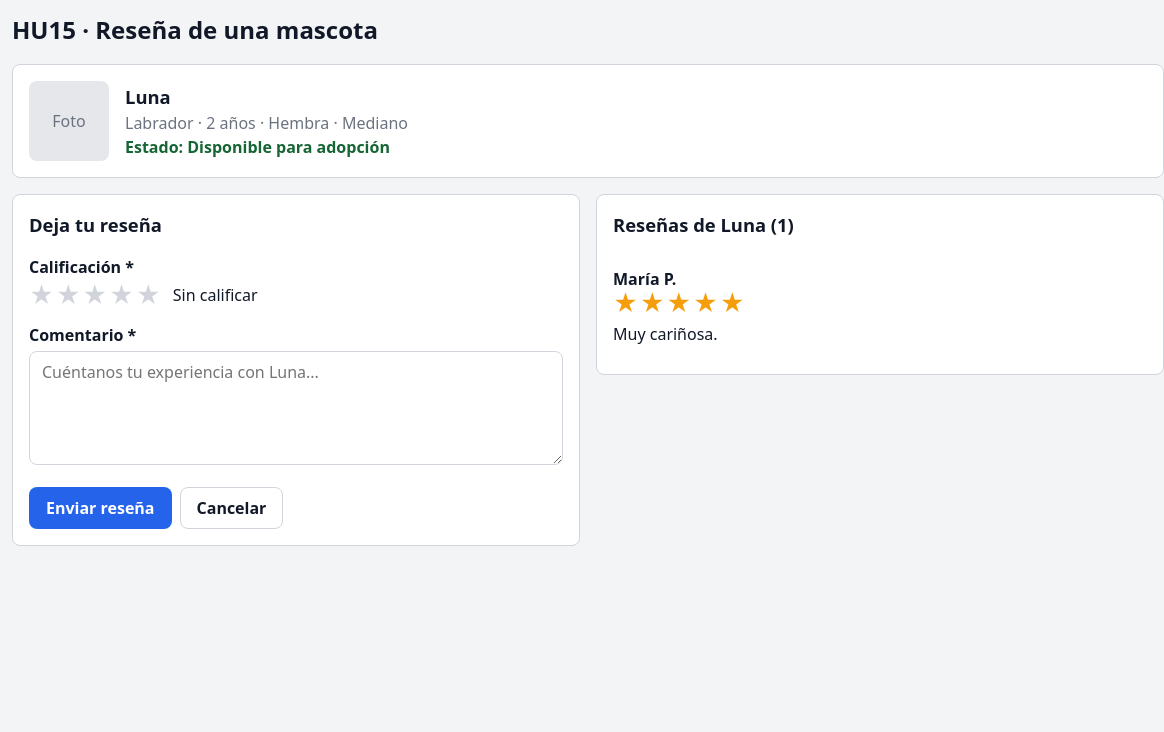
PetReviewsPage › adds the new review to the list after sending it
Expected: the heading "Reseñas de Luna (1)" is shown, [613,212,794,237]
Click the button named "4 de 5".
click(122, 295)  # box [109,283,134,307]
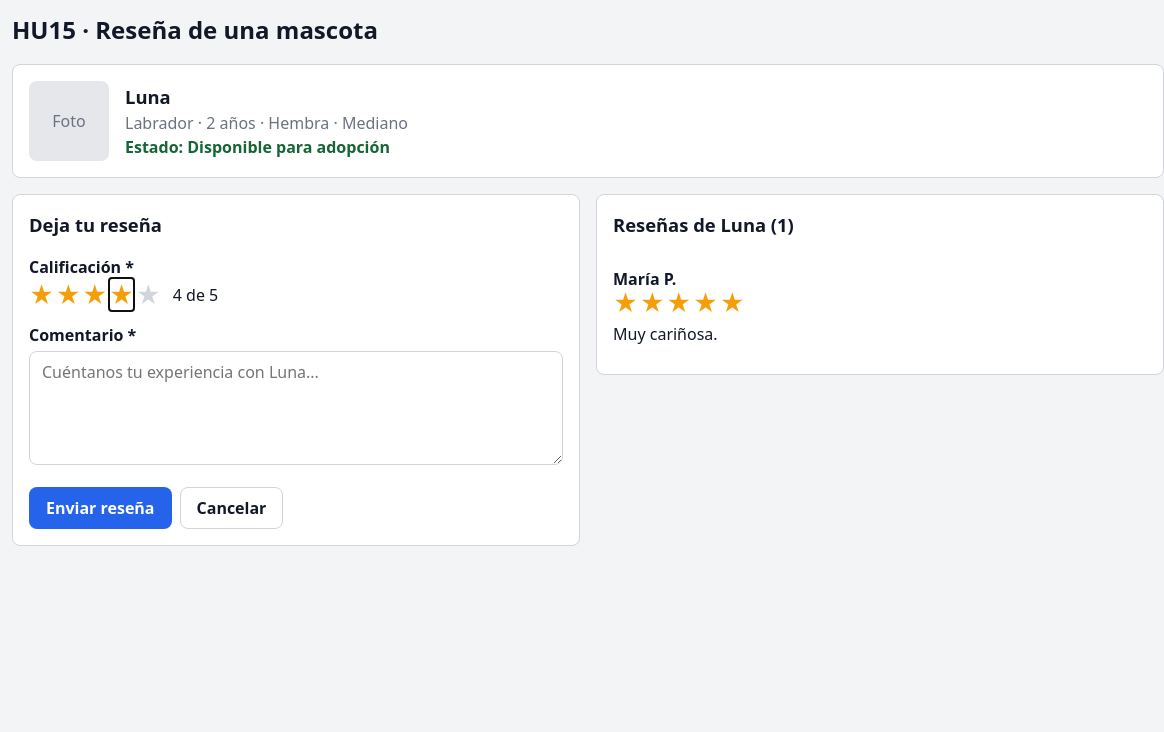
Type "Me encantó" into the text box labelled "Comentario *".
click(296, 408); type("Me encantó")  # box [29,351,563,465]
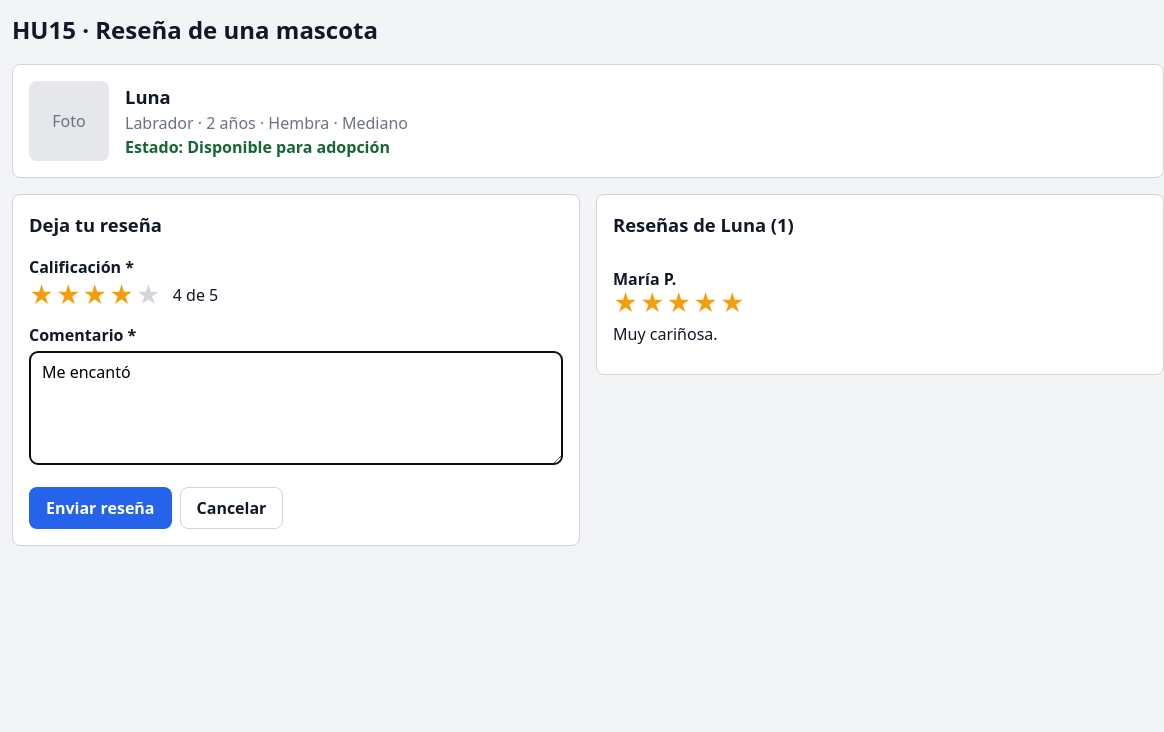
Click the button "Enviar reseña".
click(100, 508)  # box [29,487,172,529]
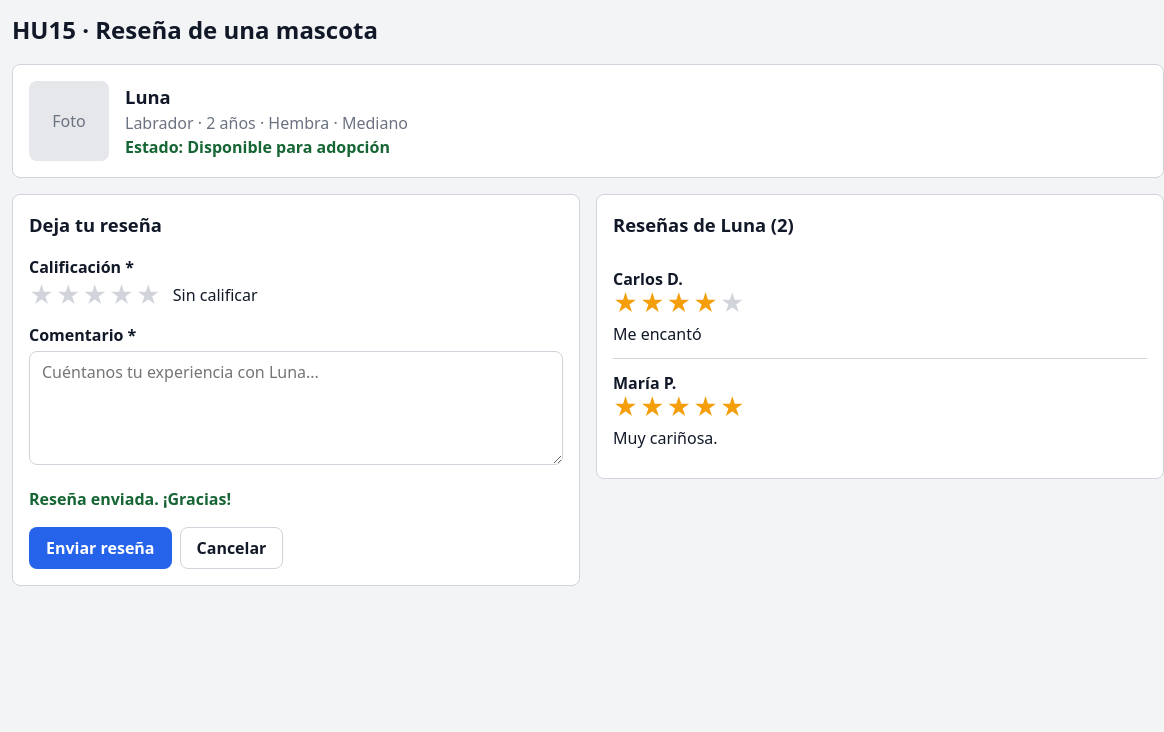
Result: the heading "Reseñas de Luna (2)" is shown at [613,212,794,237]
